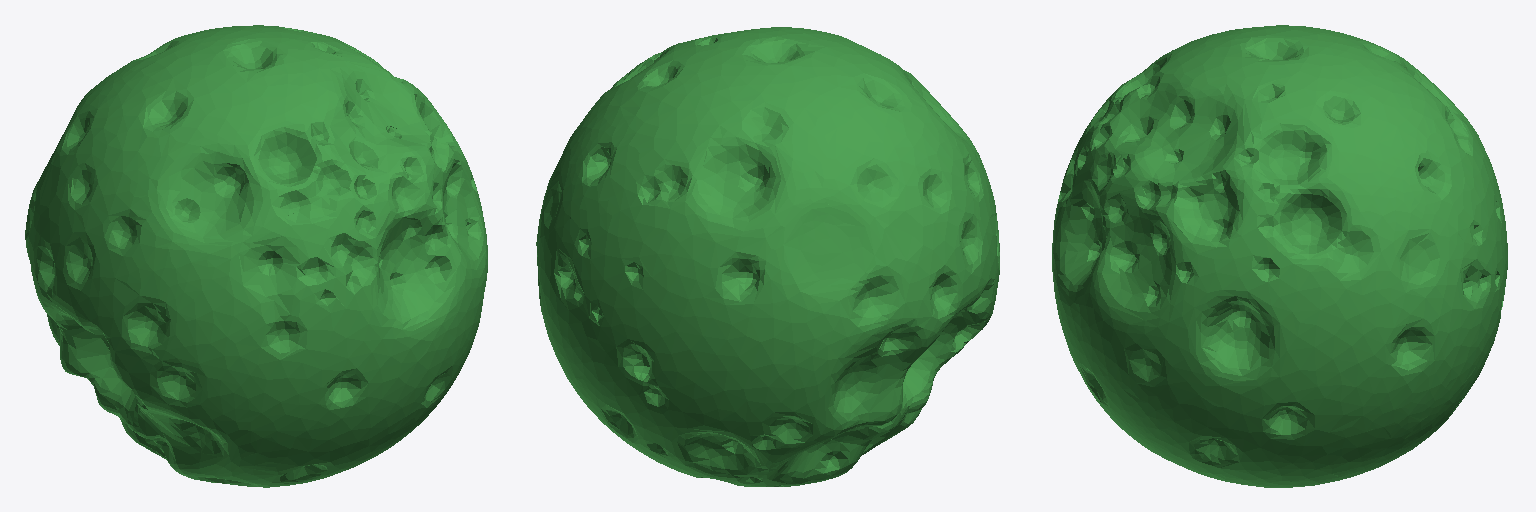
The model's file is crater.obj.
3 renders of one model, left to right at view 1: azimuth 30°, elevation 25°; view 2: azimuth 150°, elevation 25°; view 3: azimuth 270°, elevation 25°, orthographic.
Visible parts, largest first — view 1: Cube; view 2: Cube; view 3: Cube.
Boxes of the visible parts, x1=… form: Cube: x1=25, y1=25, x2=487, y2=487; Cube: x1=536, y1=27, x2=999, y2=486; Cube: x1=1052, y1=25, x2=1507, y2=487.
Bounding box in the file's own units: 1.68 × 1.66 × 1.68.